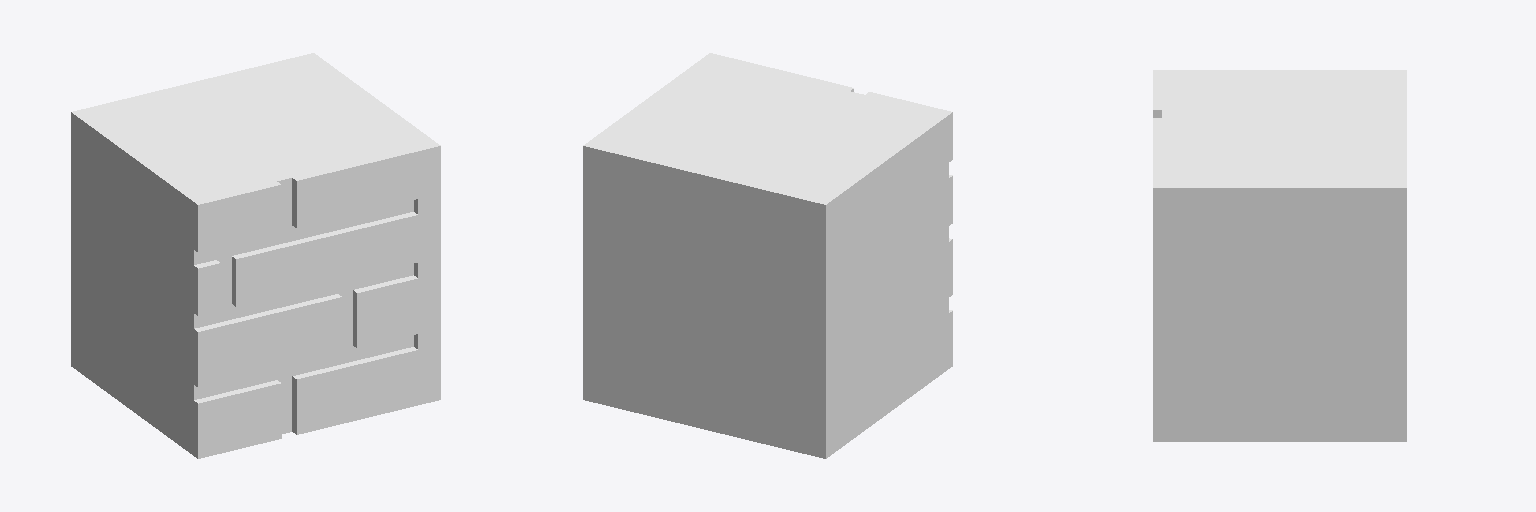
Rendered from stone_bricks-4.obj.
3 renders of one model, left to right at view 1: azimuth 30°, elevation 25°; view 2: azimuth 150°, elevation 25°; view 3: azimuth 270°, elevation 25°, orthographic.
Visible parts, largest first — view 1: object 1; view 2: object 1; view 3: object 1.
Boxes of the visible parts, x1=… form: object 1: x1=71, y1=53, x2=440, y2=458; object 1: x1=583, y1=53, x2=952, y2=458; object 1: x1=1153, y1=70, x2=1406, y2=441.
Bounding box in the file's own units: 3.2 × 3.2 × 2.9.